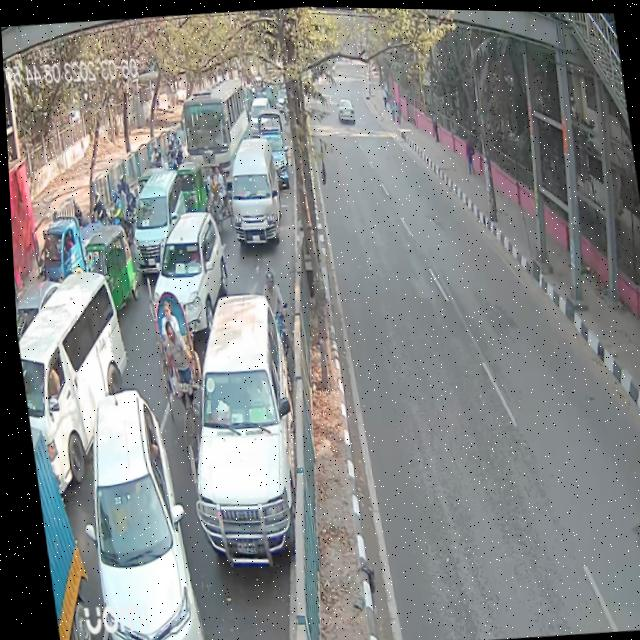cng: (71, 217, 146, 321), (166, 158, 210, 216)
rikshaw: (199, 157, 233, 233)
